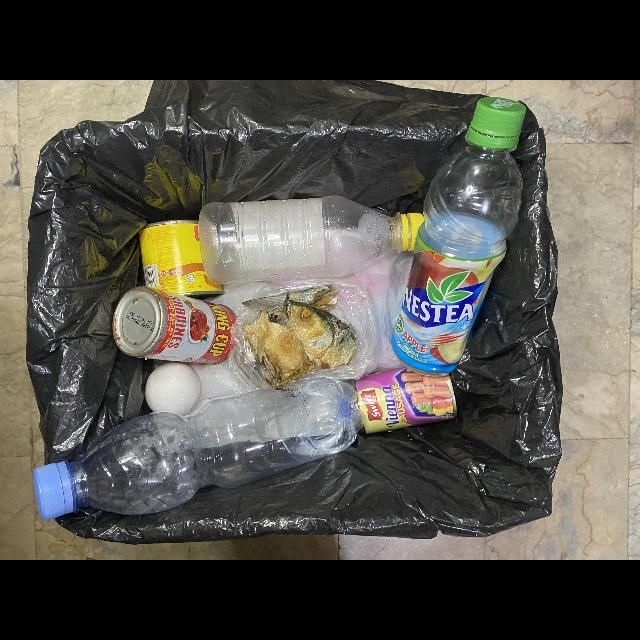biowaste: (242, 286, 359, 388), (145, 363, 201, 416)
metal: (112, 286, 237, 364), (351, 368, 457, 435), (138, 220, 224, 299)
plastic: (32, 377, 363, 520), (391, 96, 527, 376), (198, 196, 425, 286), (229, 280, 376, 394)
